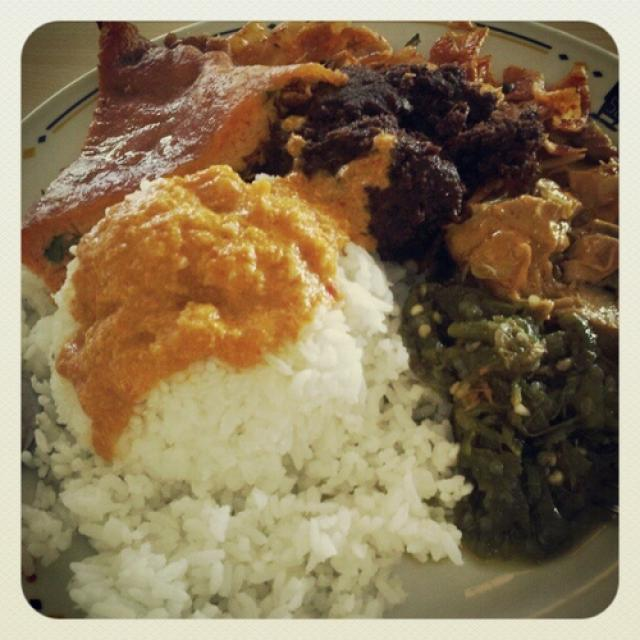米饭主食: (43, 34, 594, 602)
